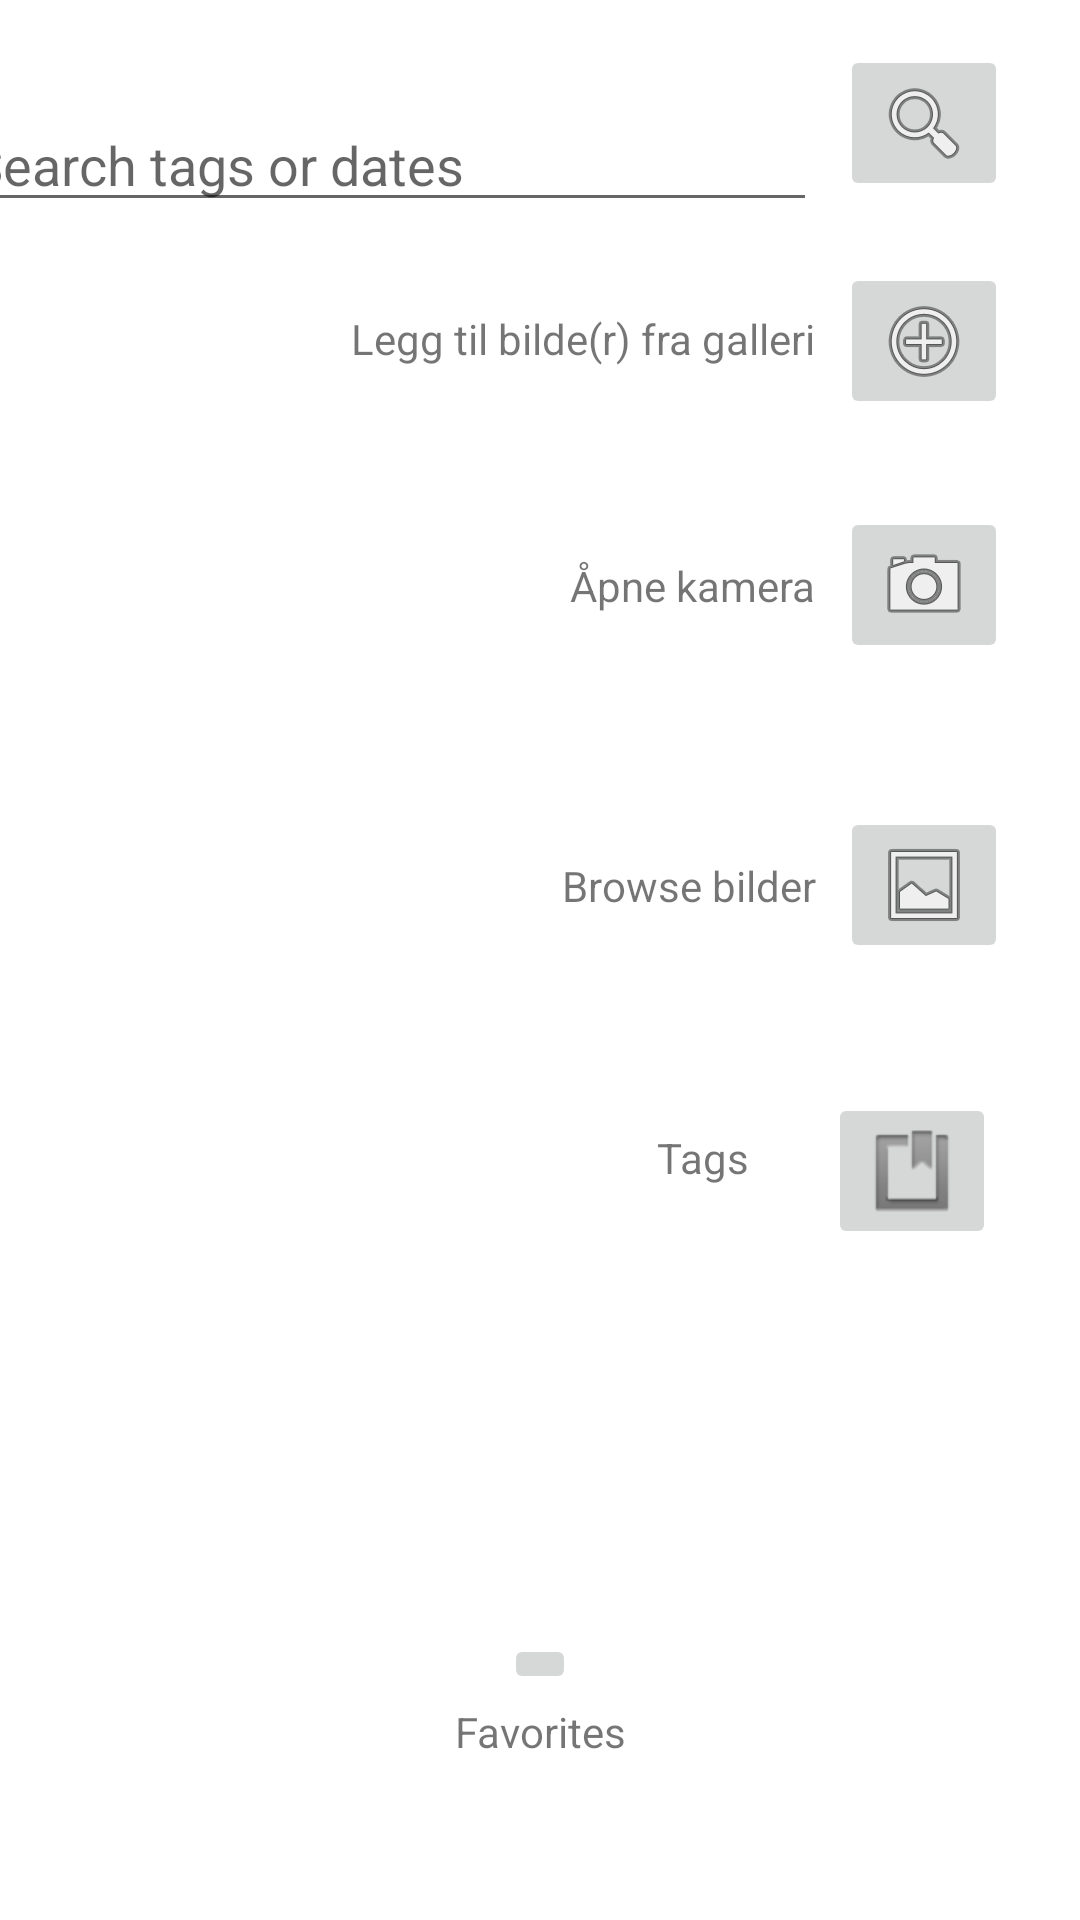

Point at icon controls on the screen. Image size 1080*1920, points as point (x, y).
add: point (924, 341)
camera: point (924, 585)
gallery: point (924, 885)
